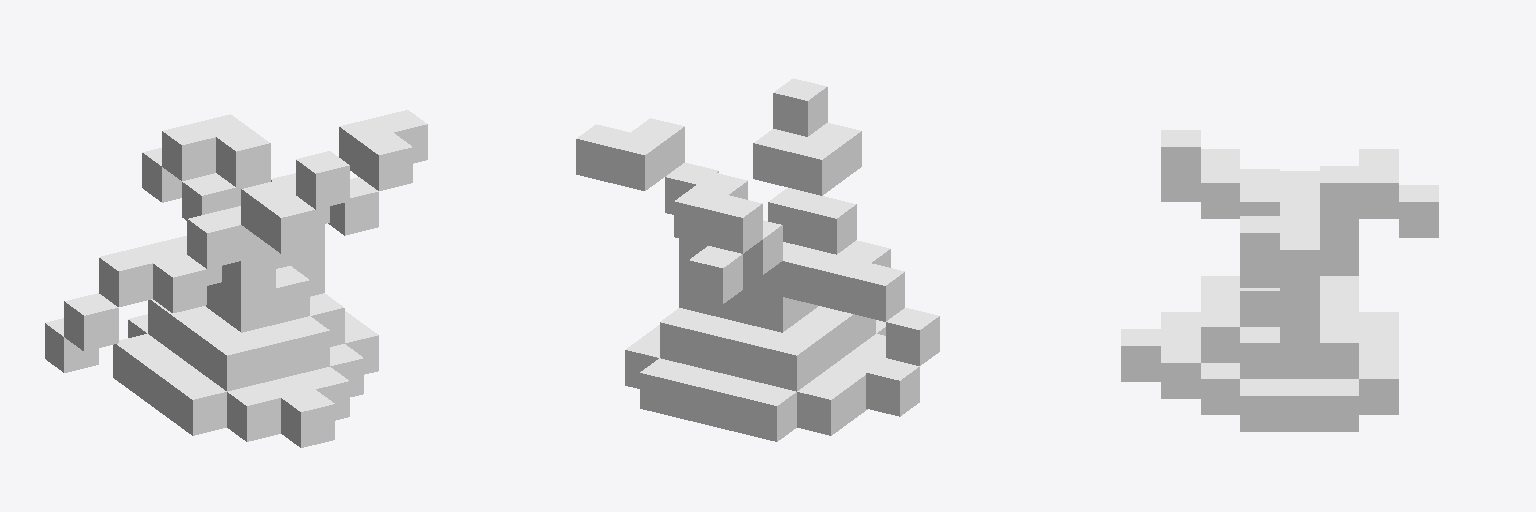
Rendered from WaterPlant3.obj.
3 views of the same model, side by side, from view 1: azimuth 30°, elevation 25°; view 2: azimuth 150°, elevation 25°; view 3: azimuth 270°, elevation 25° (orthographic).
Visible parts, largest first — view 1: object 1; view 2: object 1; view 3: object 1.
Boxes of the visible parts, box(x1,y1,x2,y2) form: object 1: box(45, 110, 427, 447); object 1: box(576, 78, 939, 441); object 1: box(1121, 130, 1438, 431).
Bounding box in the file's own units: 1 × 0.7 × 0.8.